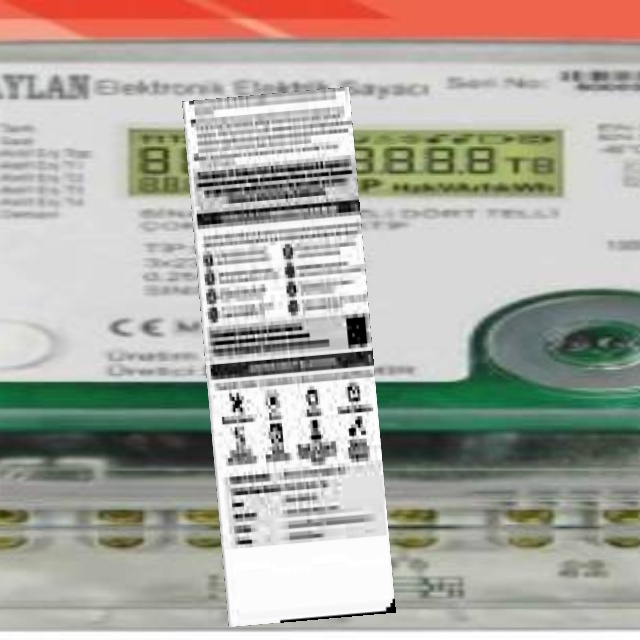electricity-bill: (181, 86, 395, 626)
